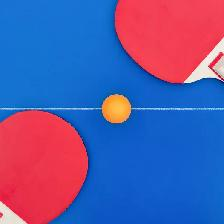YellowBall: (101, 94, 131, 123)
